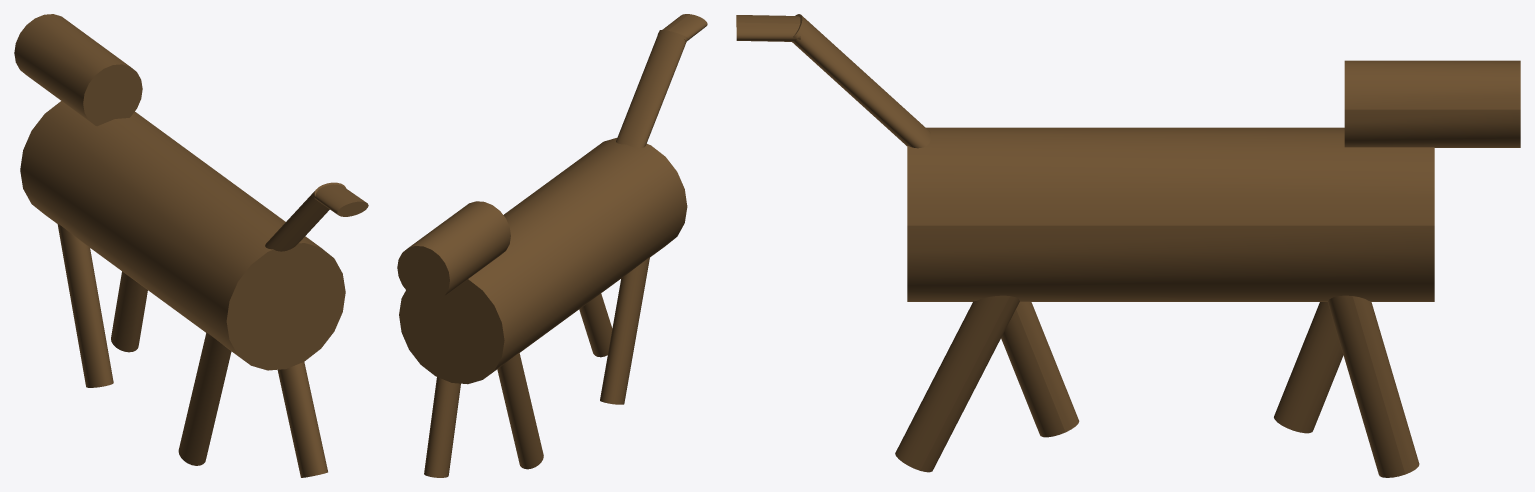
Rendered from dogV6.fbx.
3 renders of one model, left to right at view 1: azimuth 30°, elevation 25°; view 2: azimuth 150°, elevation 25°; view 3: azimuth 270°, elevation 25°, orthographic. The views are drawn at different scales.
Parts seen in each view (by area): view 1: cylinder; view 2: cylinder; view 3: cylinder.
Boxes of the visible parts, x1=… form: cylinder: x1=14, y1=14, x2=368, y2=477; cylinder: x1=397, y1=14, x2=707, y2=477; cylinder: x1=736, y1=14, x2=1520, y2=477.
Bounding box in the file's own units: 64 × 175 × 285.
